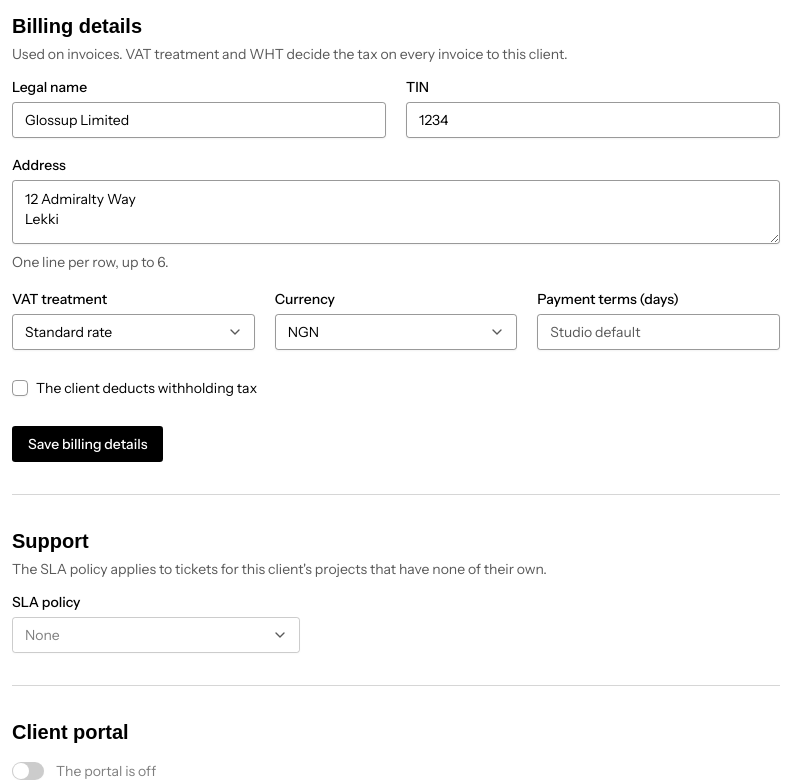
Test case: ClientSettings › lets Finance save billing details with WHT as basis points
Select "Zero-rated" in the dropdown labelled "VAT treatment" at [133, 332], box 12,314 -> 255,350
Click the checkbox named "The client deducts withholding tax" at [20, 388], box 12,380 -> 28,396
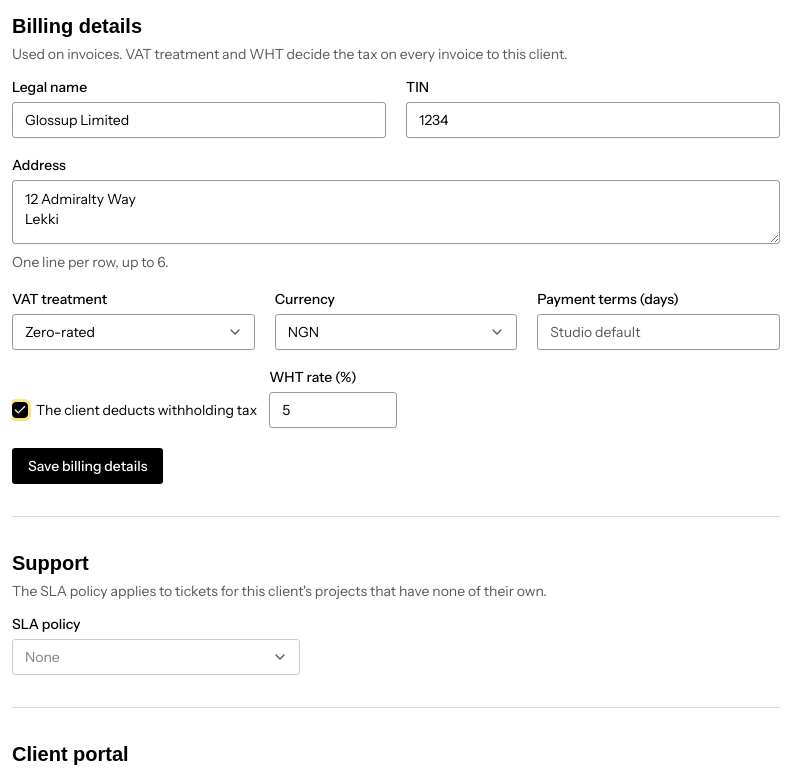
Replace the text in the field labelled "WHT rate (%)" with "7.5" at [333, 410], box 269,392 -> 397,428
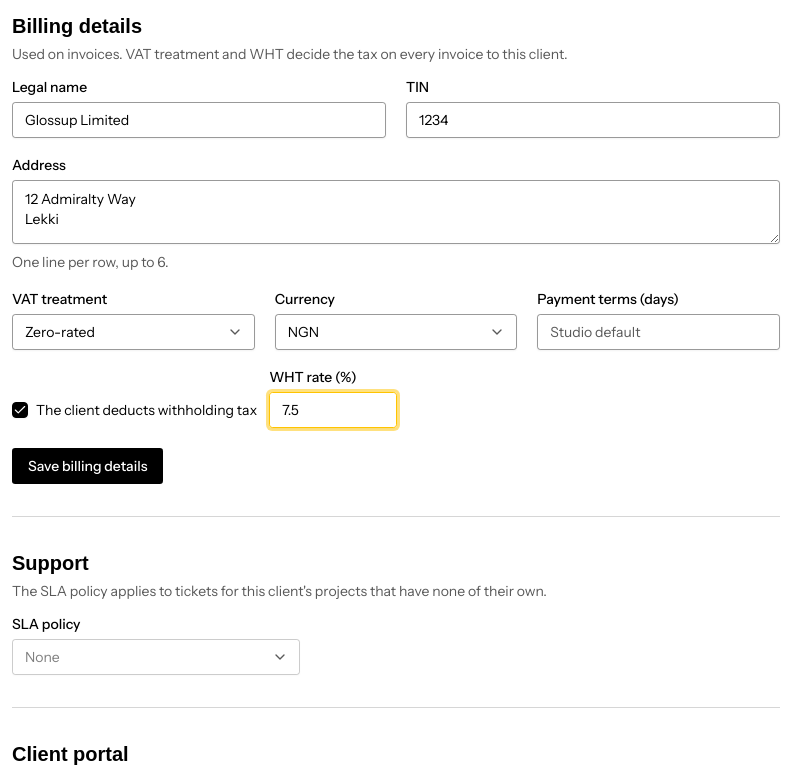
Type "14" into the field labelled "Payment terms (days)" at [659, 332], box 537,314 -> 780,350
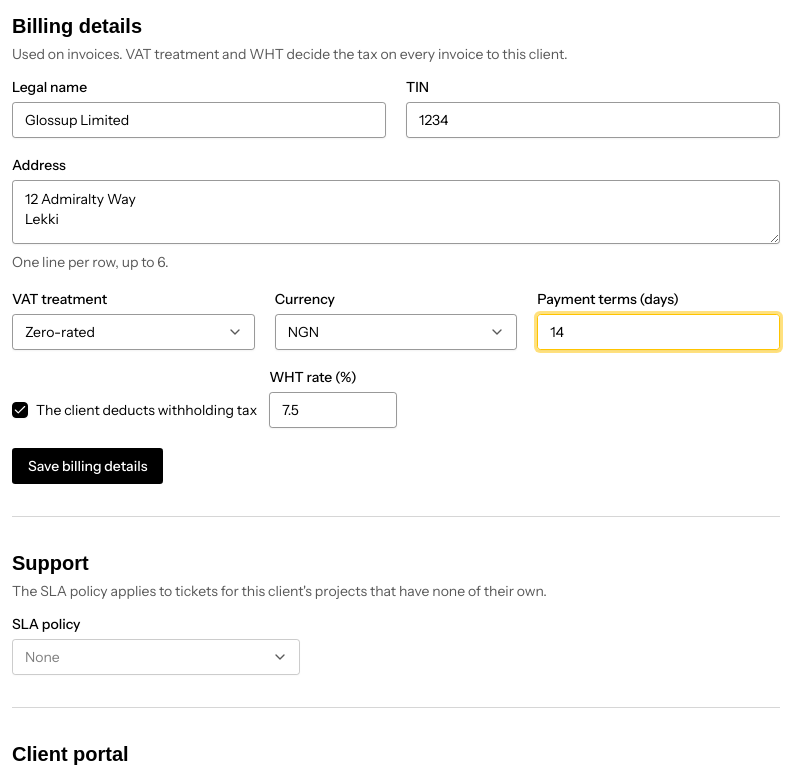
Click the button "Save billing details" at [88, 466], box 12,448 -> 163,484
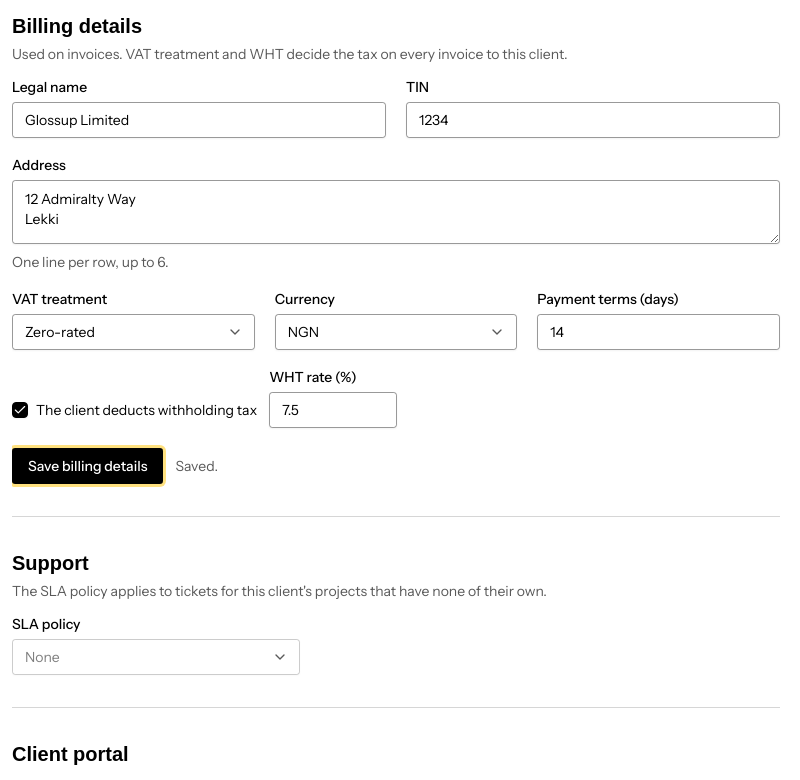
Expected: the dropdown labelled "SLA policy" is disabled, 12,639 -> 300,675
Replace the text in the field labelled "Payment terms (days)" with "two weeks" at [659, 332], box 537,314 -> 780,350
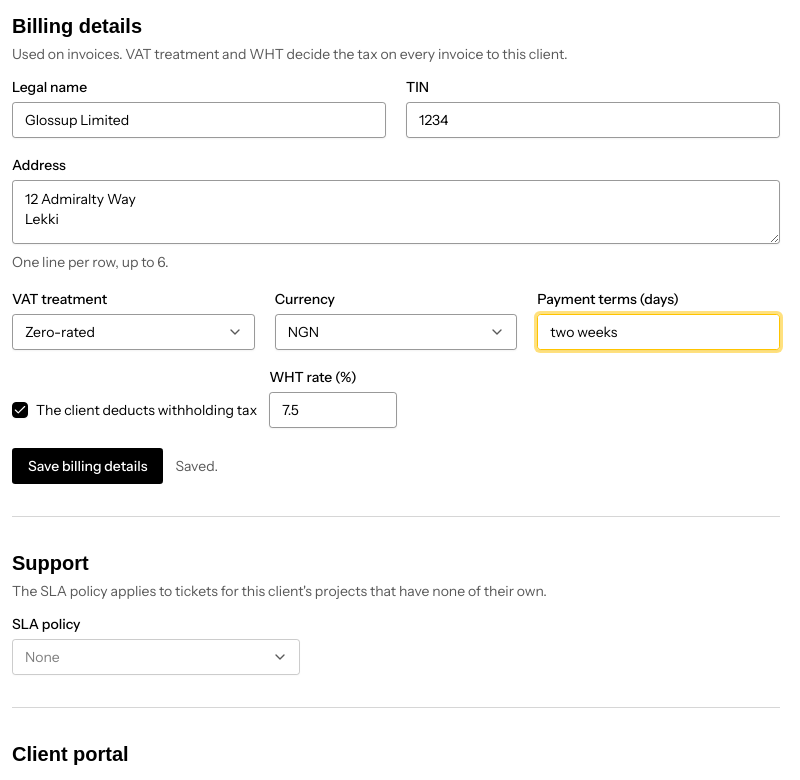
Click the button "Save billing details" at [88, 466], box 12,448 -> 163,484
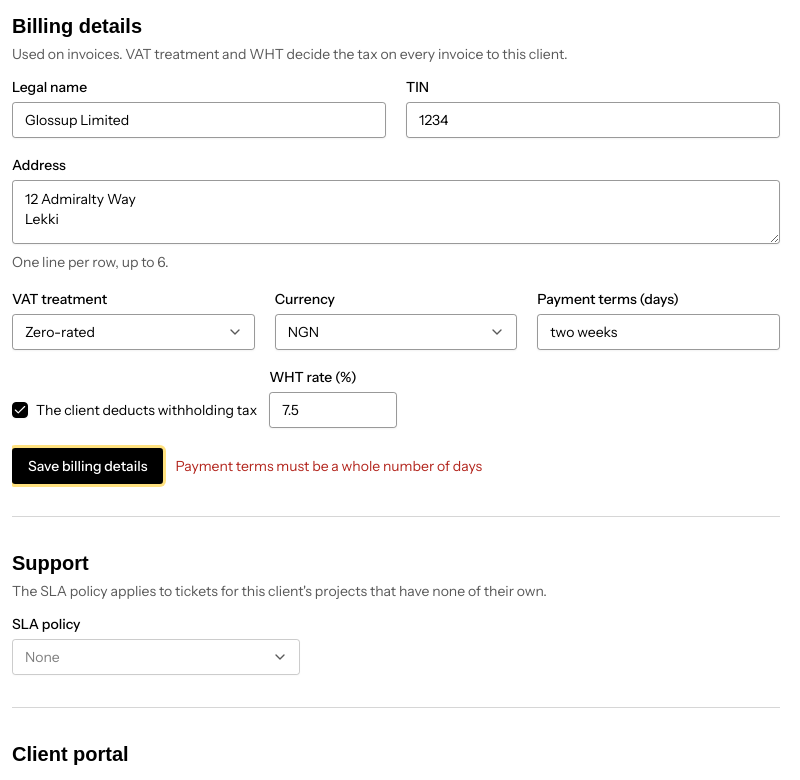
Now the message reads "Payment terms must be a whole number of days", box 175,457 -> 482,475
